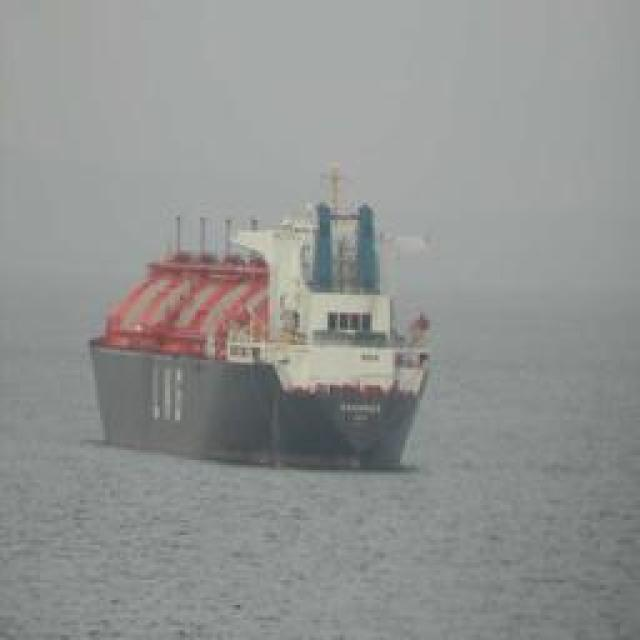CIV_Ship: (68, 158, 432, 472)
